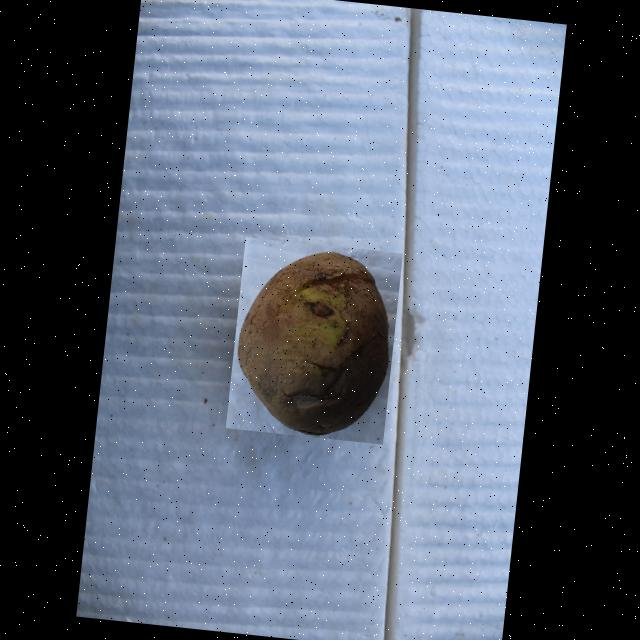Diseased-fungal potato: (225, 237, 402, 444)
